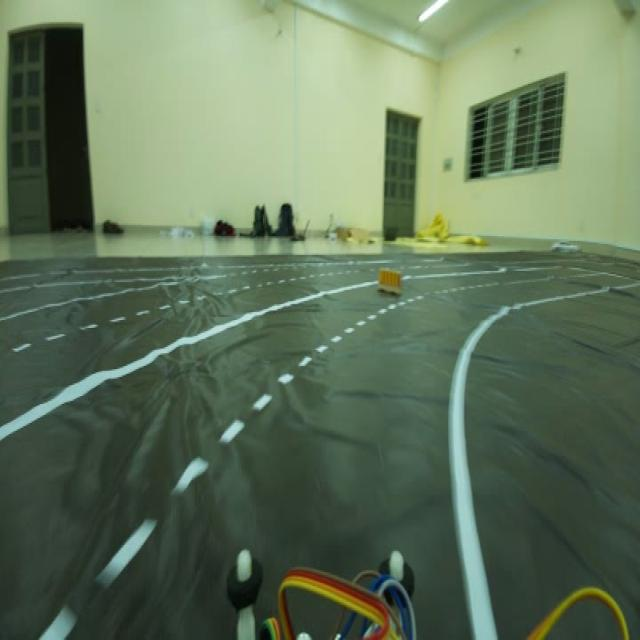roadblock: (374, 256, 412, 305)
